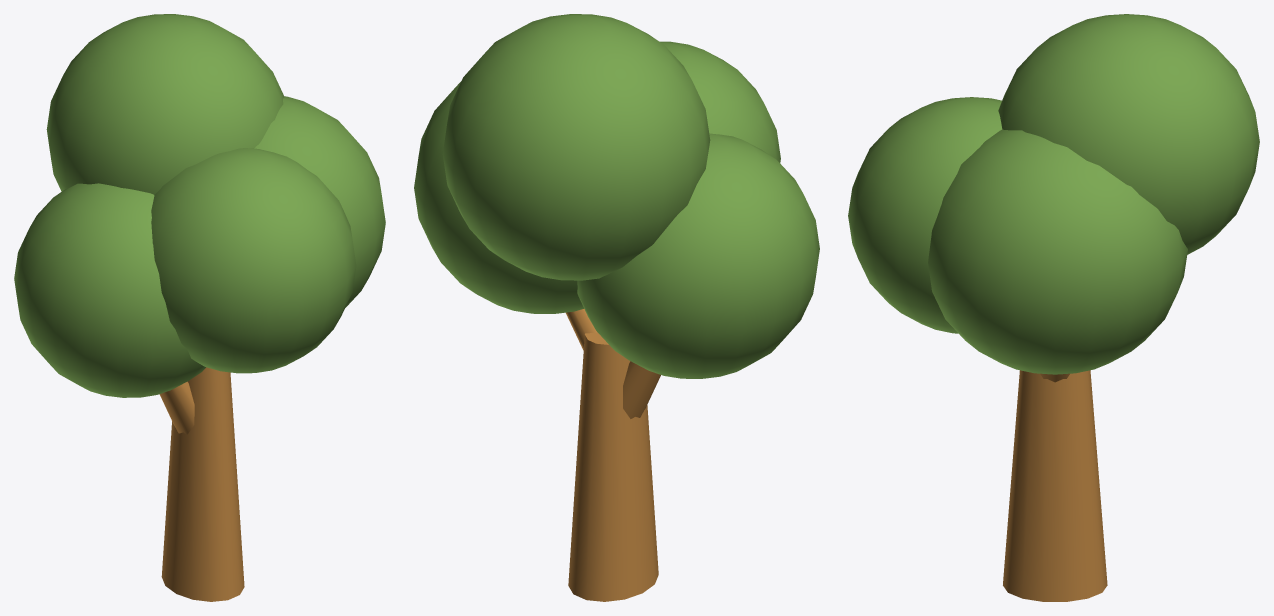
File: tree_ready.fbx
3 views of the same model, side by side, from view 1: azimuth 30°, elevation 25°; view 2: azimuth 150°, elevation 25°; view 3: azimuth 270°, elevation 25° (orthographic). The views are drawn at different scales.
Parts seen in each view (by area): view 1: tree_ready; view 2: tree_ready; view 3: tree_ready.
Boxes of the visible parts, bbox=[...] form: tree_ready: bbox=[14, 14, 385, 601]; tree_ready: bbox=[414, 14, 819, 601]; tree_ready: bbox=[848, 14, 1259, 601].
Bounding box in the file's own units: 2 × 3 × 2.
Materials: 1 (1 with a texture image).
